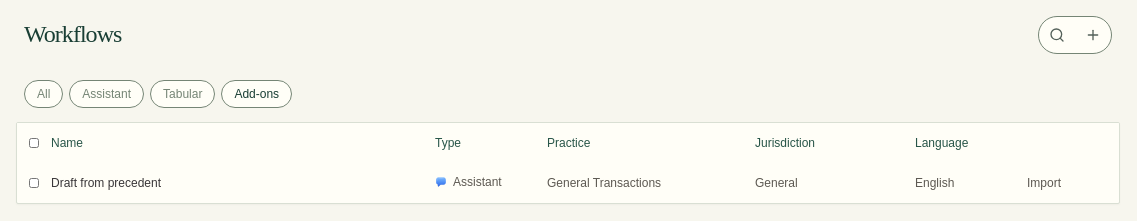
it: WorkflowList pack toolbar › uses a plain row import action and keeps the bulk import pill
Click the checkbox named "Select Draft from precedent" at (34, 183), box [29,178,39,188]
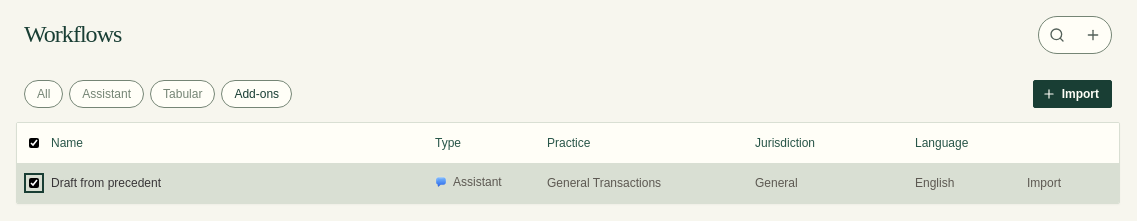
Expected: the number of buttons named "Import" is 2, [1033,80,1112,108]; [1027,175,1061,191]
